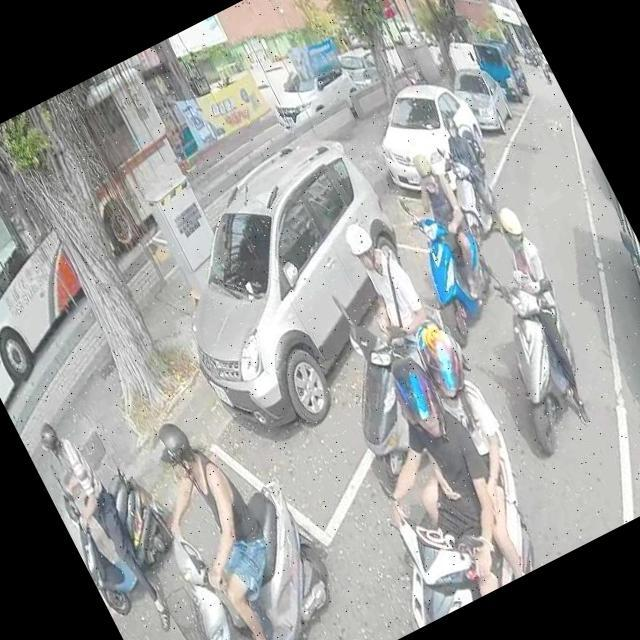person: (312, 338, 544, 624), (350, 308, 562, 599), (118, 398, 319, 640), (24, 402, 182, 640), (468, 196, 616, 430), (384, 138, 498, 308), (329, 208, 445, 370), (434, 118, 511, 230)
